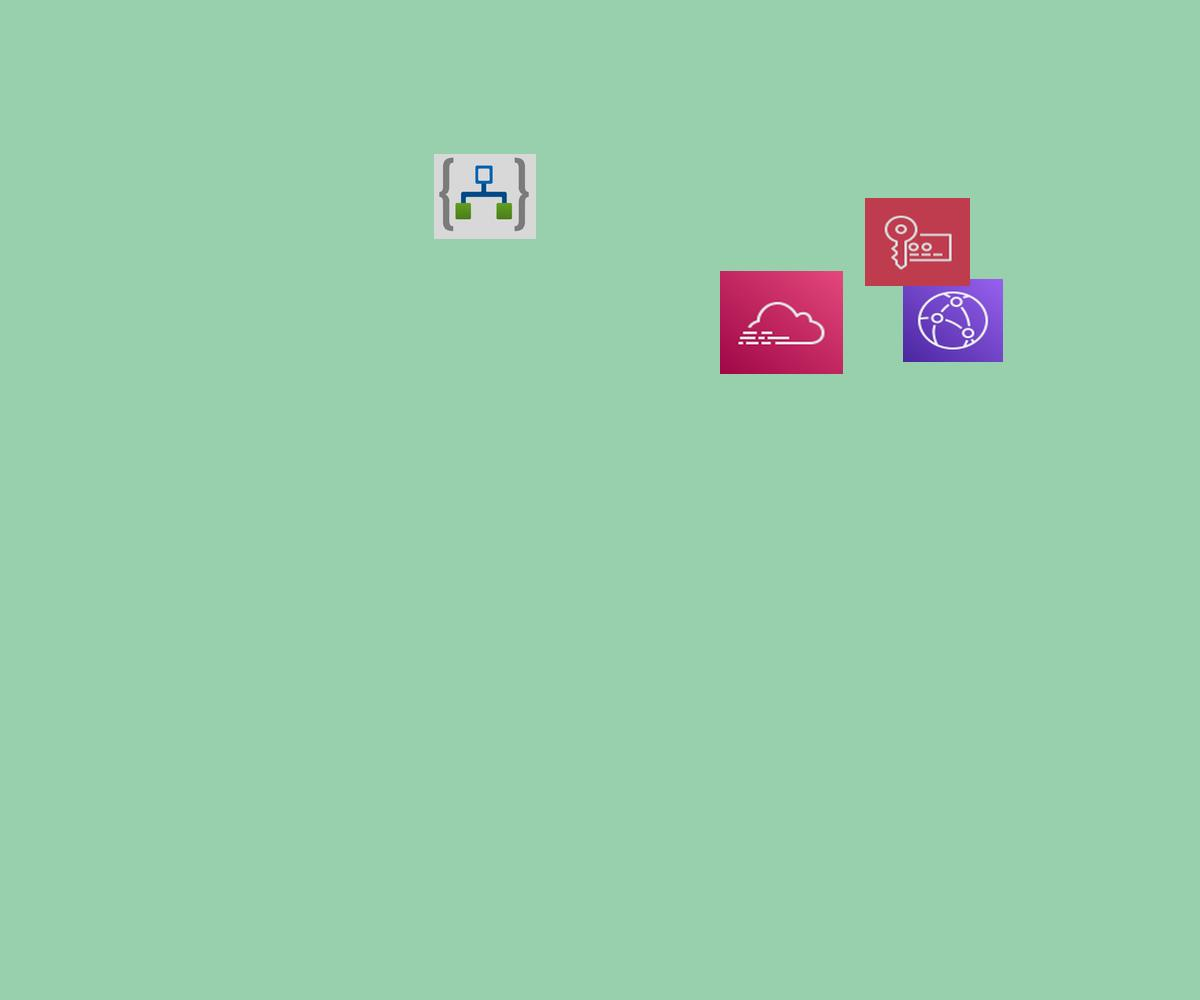AWS-CloudFront: (903, 279, 1003, 362)
AWS-CloudTrail: (720, 271, 843, 374)
AWS-Key-Management-Service: (865, 198, 970, 286)
Azure_integration-204-Logic-Apps: (434, 154, 536, 239)
